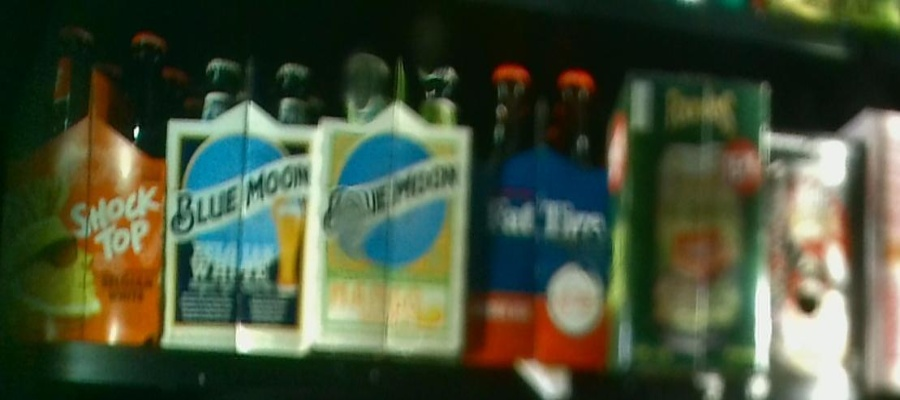bottle: (1, 28, 161, 345), (163, 49, 320, 356), (321, 51, 467, 368), (467, 58, 613, 364), (620, 70, 767, 366), (768, 132, 861, 374)
